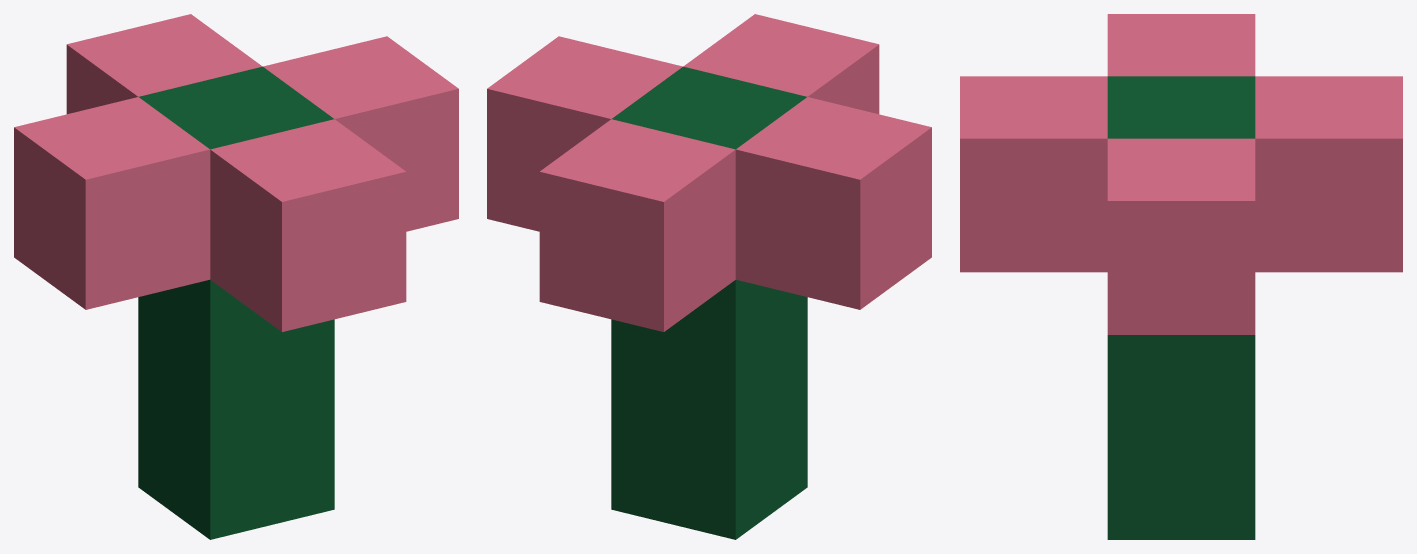
The model's file is flower_g_3.obj.
The picture shows the model from 3 angles, left to right: view 1: azimuth 30°, elevation 25°; view 2: azimuth 150°, elevation 25°; view 3: azimuth 270°, elevation 25°; orthographic projection. The views are drawn at different scales.
Size of the model in its own units: 0.3 by 0.3 by 0.3.
Materials: 1 (1 with a texture image).
